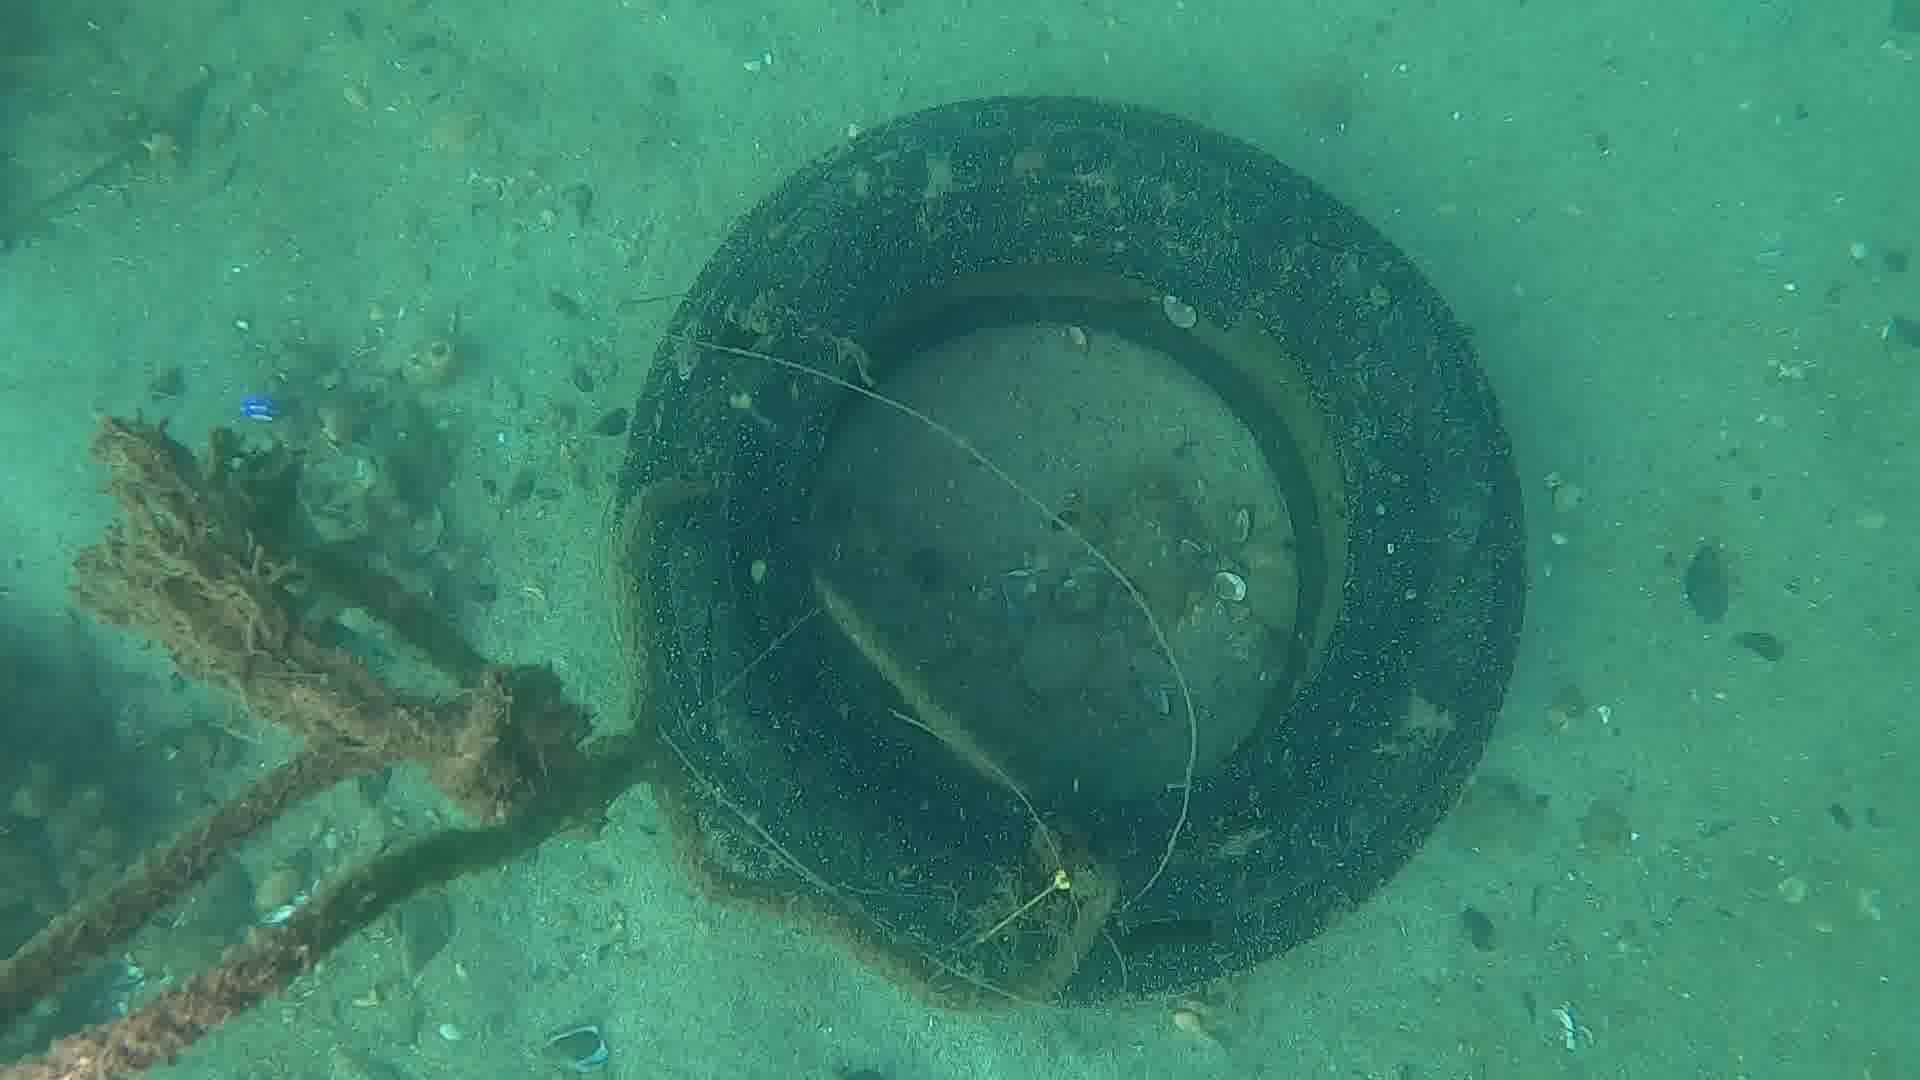bundle of ropes: (0, 537, 1125, 1080)
tire: (607, 91, 1530, 1011)
